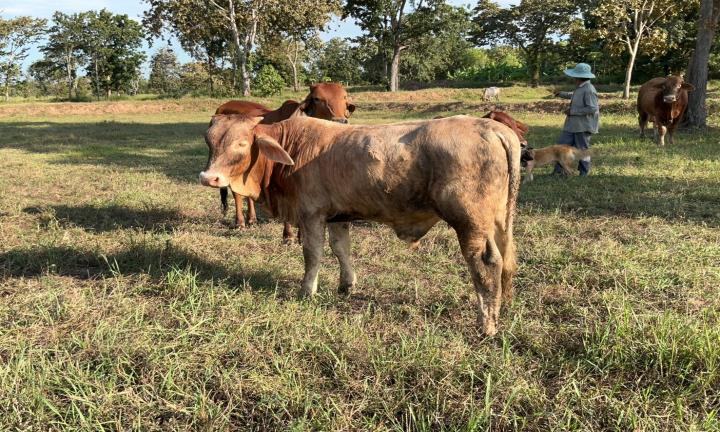Charolais: (200, 115, 520, 334)
